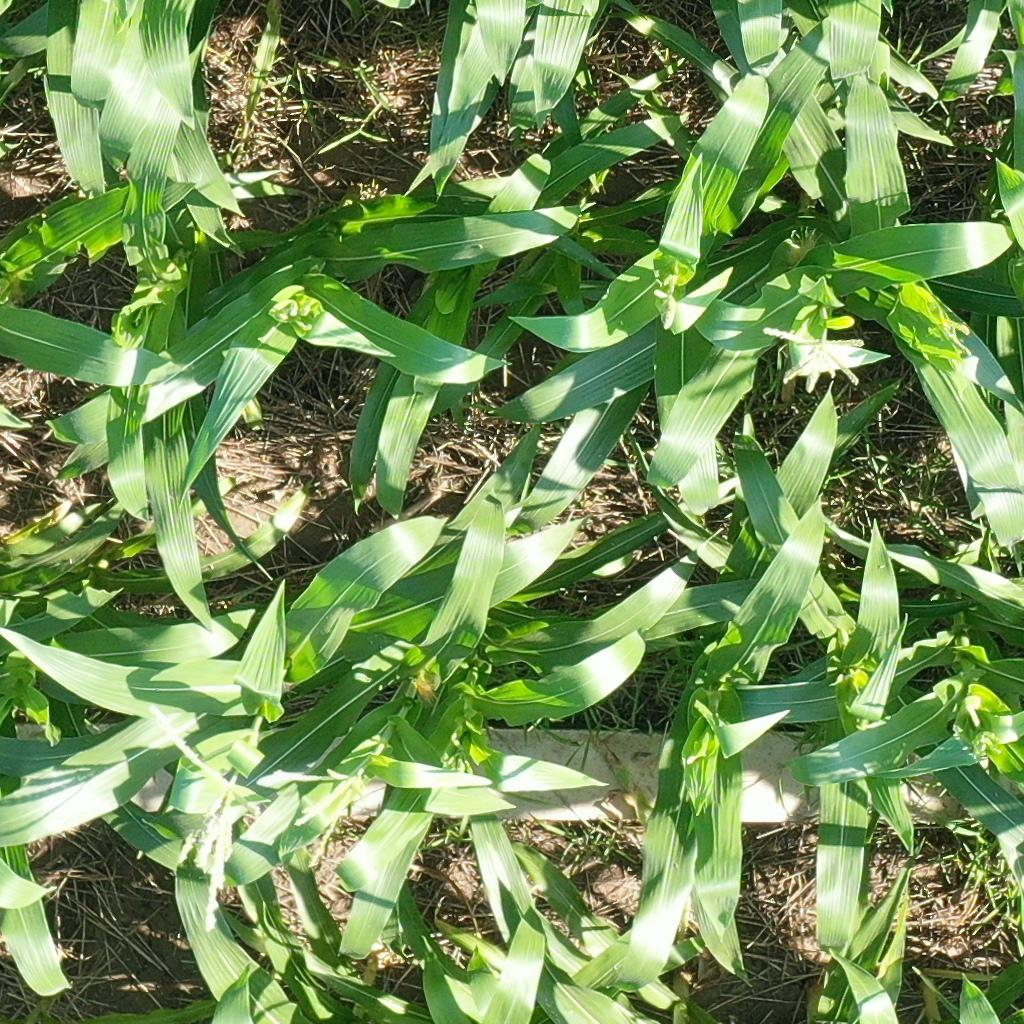Tassel: (144, 699, 273, 937), (280, 765, 374, 868), (760, 320, 877, 397), (651, 267, 690, 330), (269, 297, 323, 333), (932, 311, 975, 354), (969, 730, 1003, 758)
